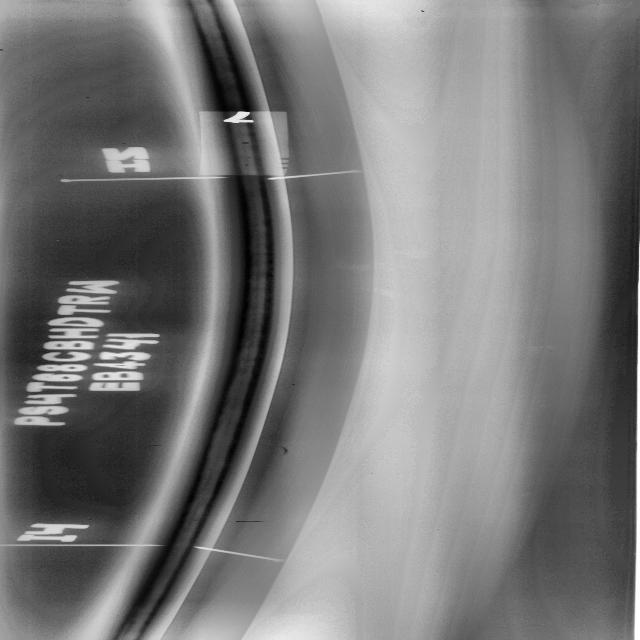porosity: (193, 519, 200, 522)
